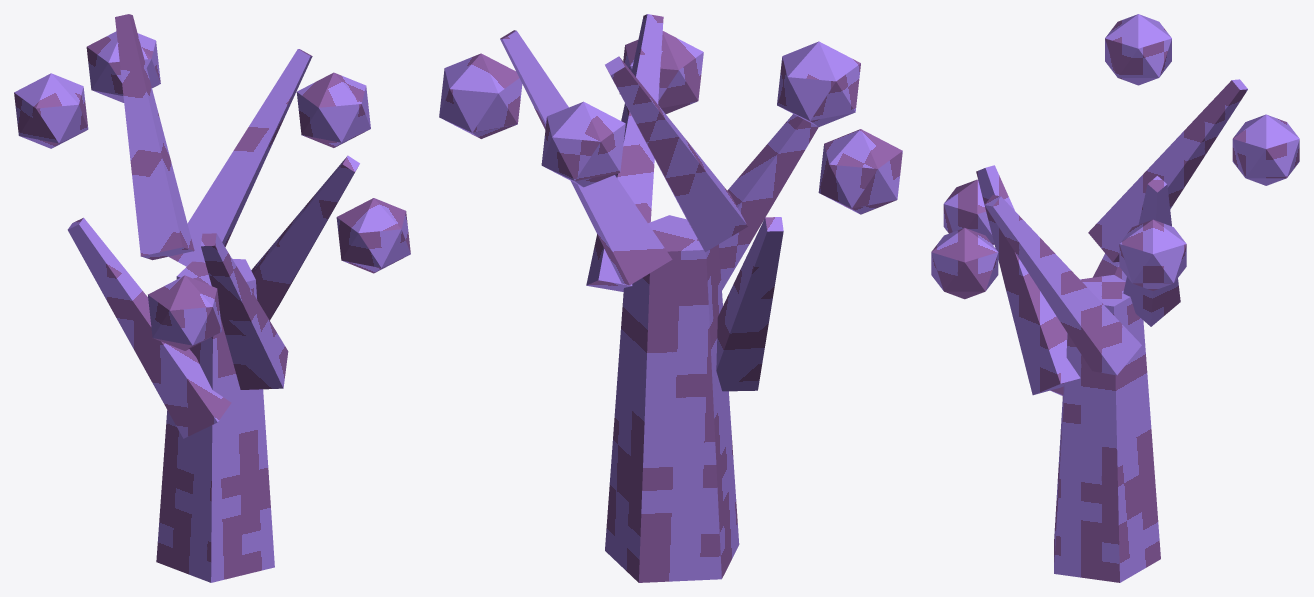
Rendered from r06_recife_3.glb.
3 views of the same model, side by side, from view 1: azimuth 30°, elevation 25°; view 2: azimuth 150°, elevation 25°; view 3: azimuth 270°, elevation 25° (orthographic). The views are drawn at different scales.
Parts seen in each view (by area): view 1: r06_recife_3; view 2: r06_recife_3; view 3: r06_recife_3.
Part boxes in pixels (left/top/right/bottom): r06_recife_3: left=14, top=14, right=410, bottom=582; r06_recife_3: left=439, top=14, right=902, bottom=582; r06_recife_3: left=931, top=14, right=1299, bottom=582.
Size of the model in its own units: 1.18 by 1.6 by 1.12.
Materials: 1 (1 with a texture image).
